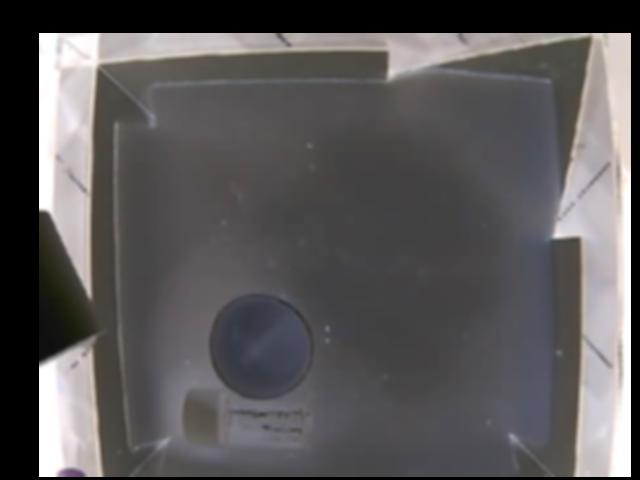Bottle: (179, 387, 309, 451)
Cup: (204, 293, 313, 399)
